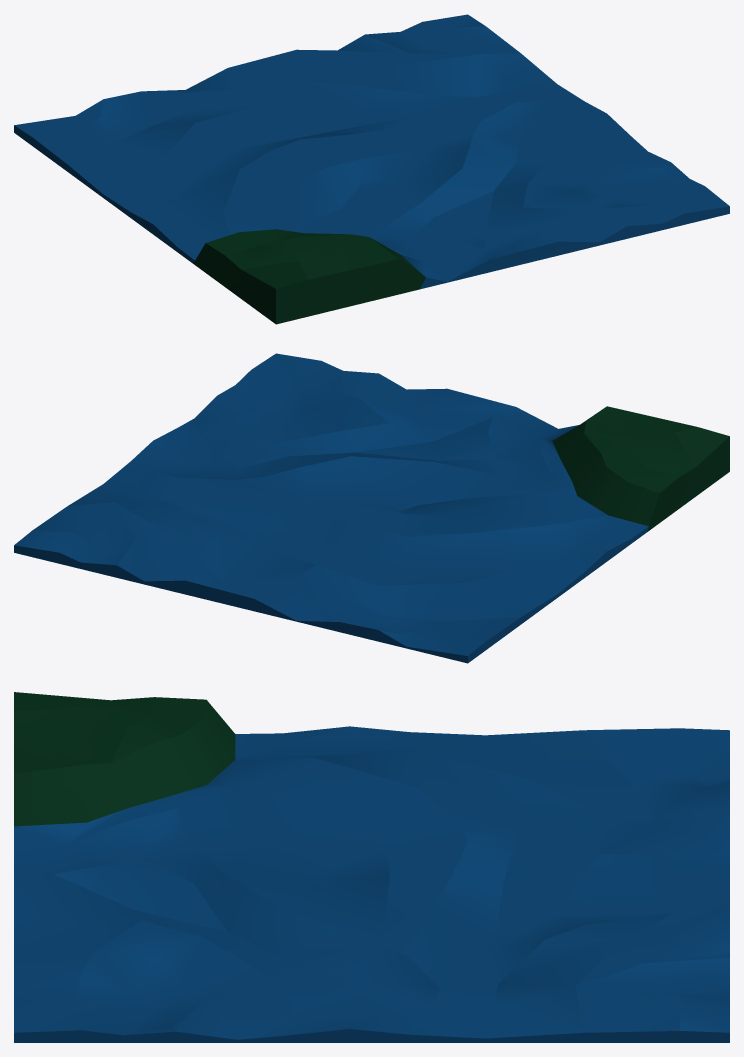
Rendered from Water_Corner_External_LB.fbx.
3 renders of one model, top to bottom at view 1: azimuth 30°, elevation 25°; view 2: azimuth 150°, elevation 25°; view 3: azimuth 270°, elevation 25°, orthographic. The views are drawn at different scales.
Visible parts, largest first — view 1: Water_Corner_External_LB; view 2: Water_Corner_External_LB; view 3: Water_Corner_External_LB.
Part boxes in pixels (bbox=[...]): Water_Corner_External_LB: bbox=[14, 14, 729, 324]; Water_Corner_External_LB: bbox=[14, 353, 729, 663]; Water_Corner_External_LB: bbox=[14, 692, 729, 1042].
Size of the model in its own units: 147 by 12.96 by 147.
